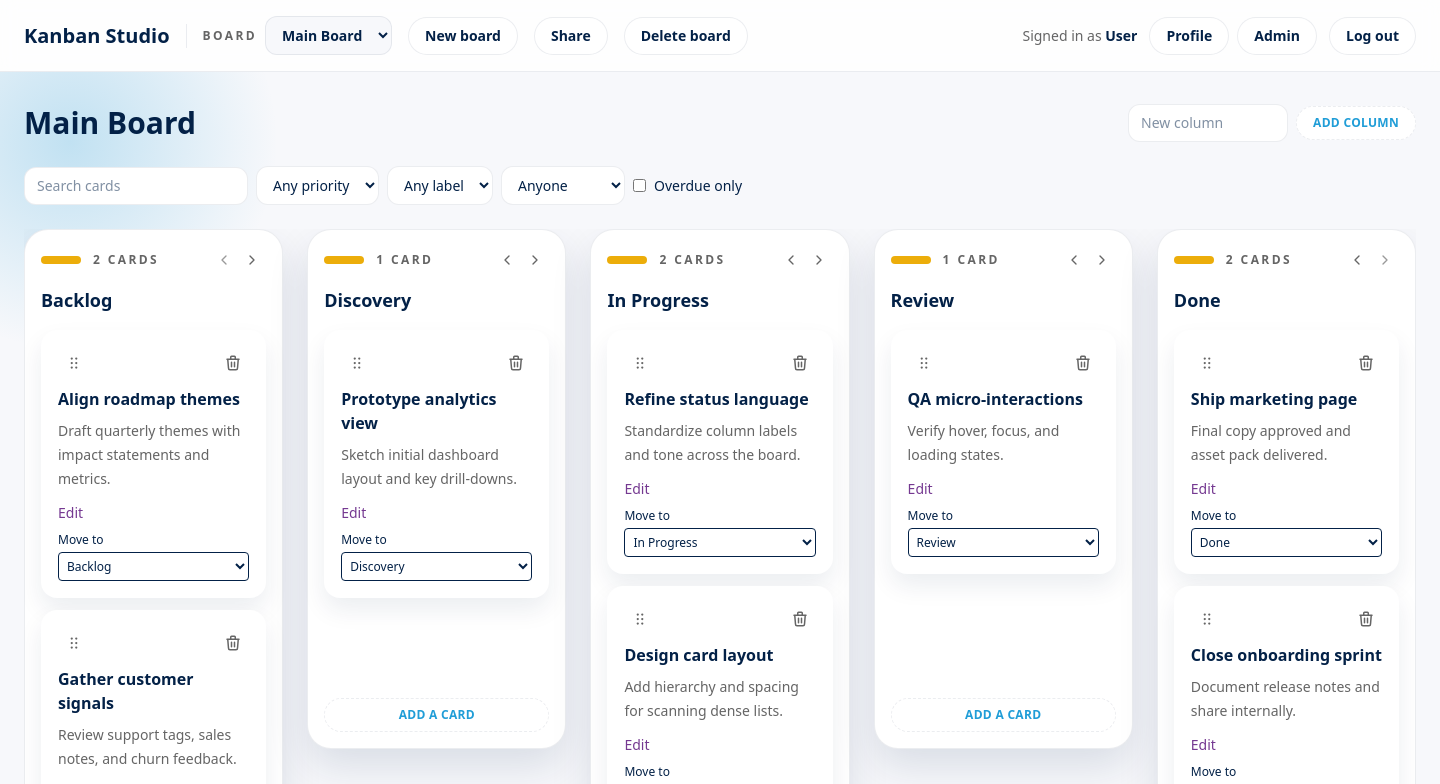
Test case: treats a non-JSON 401 as session expiry
Expected: the field named "Board name" is shown, [24,105,1116,141]
Select "Done" in the dropdown named "Move Align roadmap themes to column" at x=154, y=566, box [58,552,249,581]
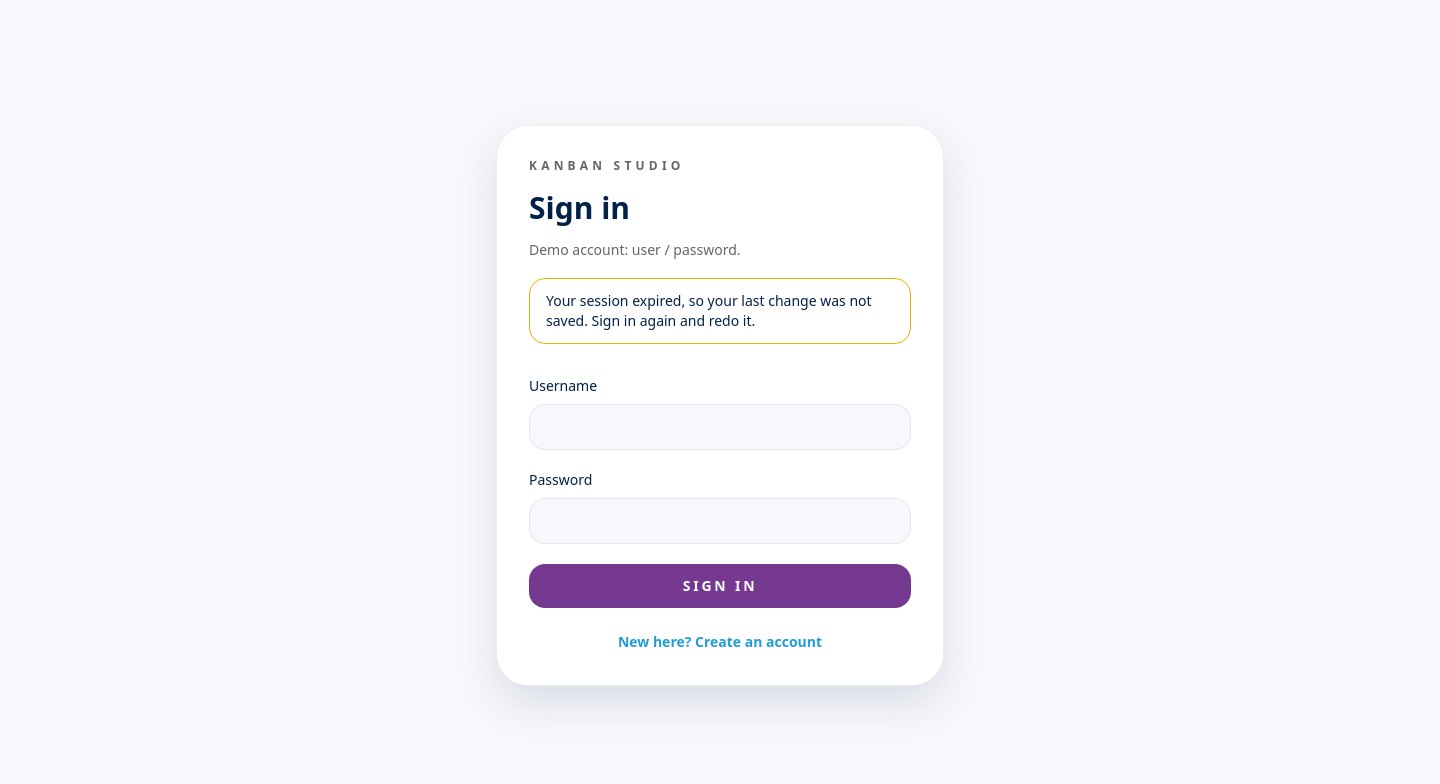
Now the heading "Sign in" is shown, box [529,186,630,228]
Now the message shows "your last change was not saved", box [546,290,872,330]
